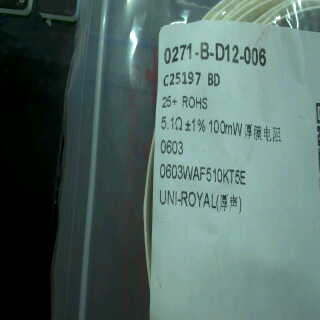5.1R: (158, 114, 185, 133)
